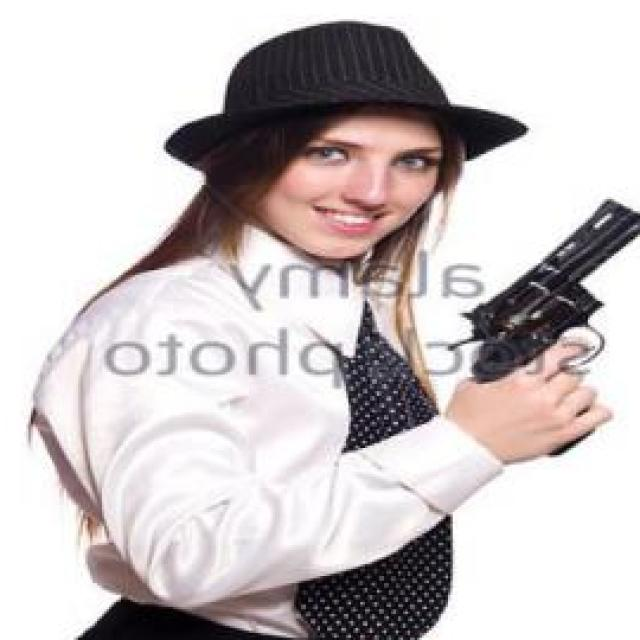pistol: (441, 199, 640, 460)
